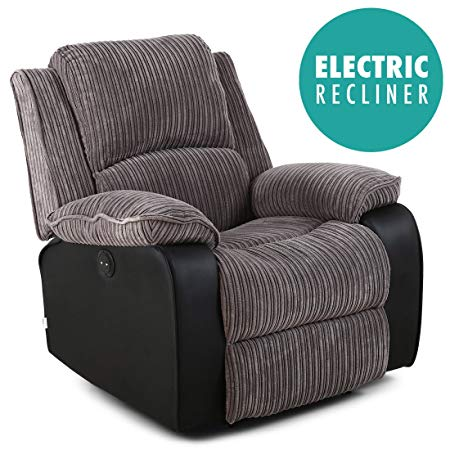chairs: (8, 33, 426, 437)
